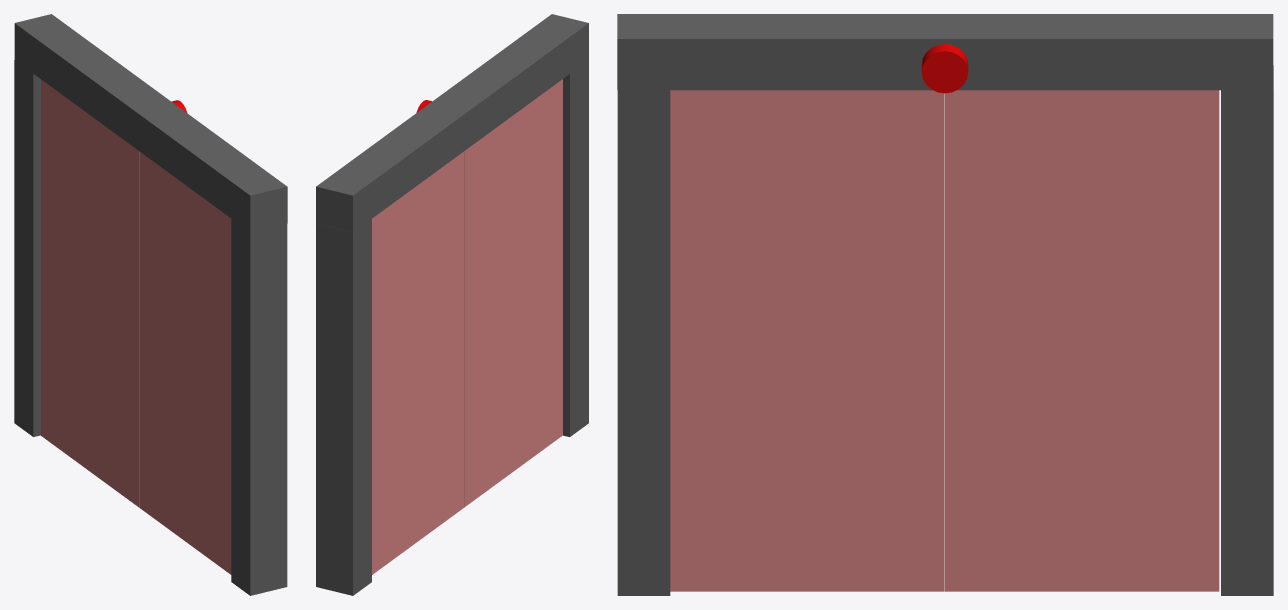
Rendered from door.fbx.
The picture shows the model from 3 angles, left to right: view 1: azimuth 30°, elevation 25°; view 2: azimuth 150°, elevation 25°; view 3: azimuth 270°, elevation 25°; orthographic projection. The views are drawn at different scales.
Visible parts, largest first — view 1: pCube5, pCube1, pCube4, pCube3, pCube6; view 2: pCube1, pCube5, pCube6, pCube3, pCube4; view 3: pCube1, pCube5, pCube3, pCube4, pCube6, pCylinder1.
Part boxes in pixels (left/top/right/bottom): pCube5: left=41, top=79, right=139, bottom=507; pCube1: left=140, top=152, right=231, bottom=574; pCube4: left=231, top=219, right=287, bottom=595; pCube3: left=14, top=14, right=287, bottom=232; pCube6: left=14, top=60, right=40, bottom=436; pCube1: left=464, top=79, right=562, bottom=507; pCube5: left=372, top=151, right=463, bottom=574; pCube6: left=316, top=219, right=371, bottom=595; pCube3: left=316, top=14, right=588, bottom=232; pCube4: left=563, top=60, right=588, bottom=436; pCube1: left=670, top=90, right=944, bottom=591; pCube5: left=945, top=90, right=1219, bottom=591; pCube3: left=617, top=14, right=1273, bottom=90; pCube4: left=617, top=90, right=670, bottom=595; pCube6: left=1221, top=65, right=1273, bottom=595; pCylinder1: left=921, top=44, right=968, bottom=93.
Size of the model in its own units: 0.6821 by 5.46 by 5.83.
